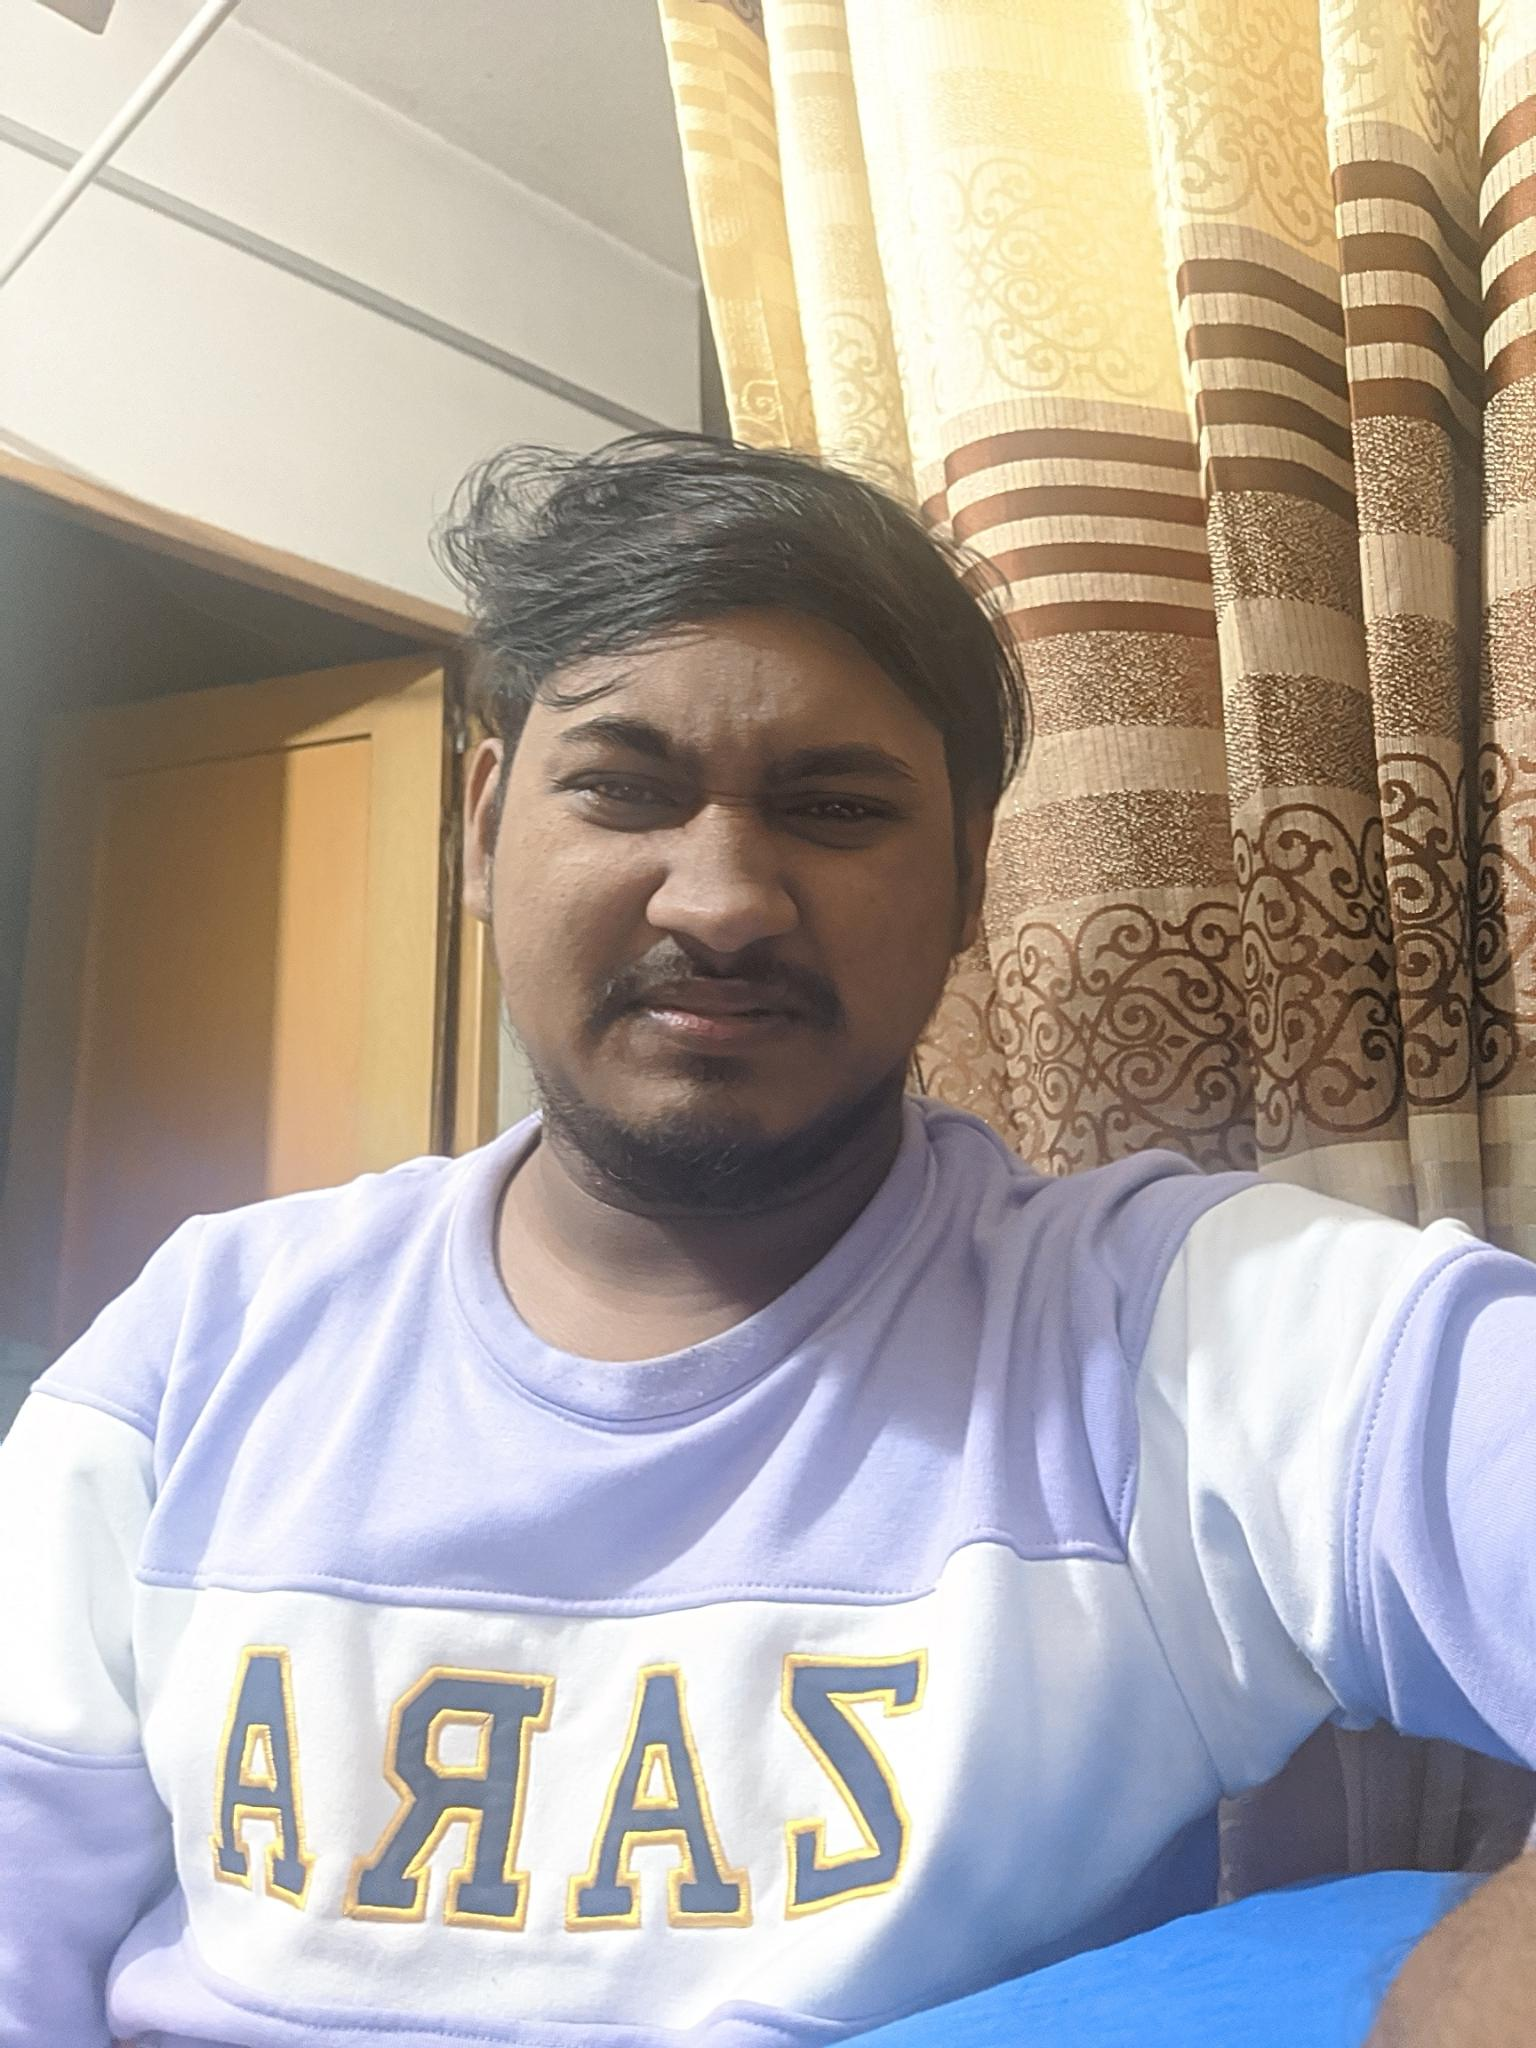Disgust: (508, 664, 942, 1148)
